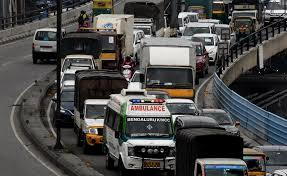ambulance: (110, 93, 173, 143)
